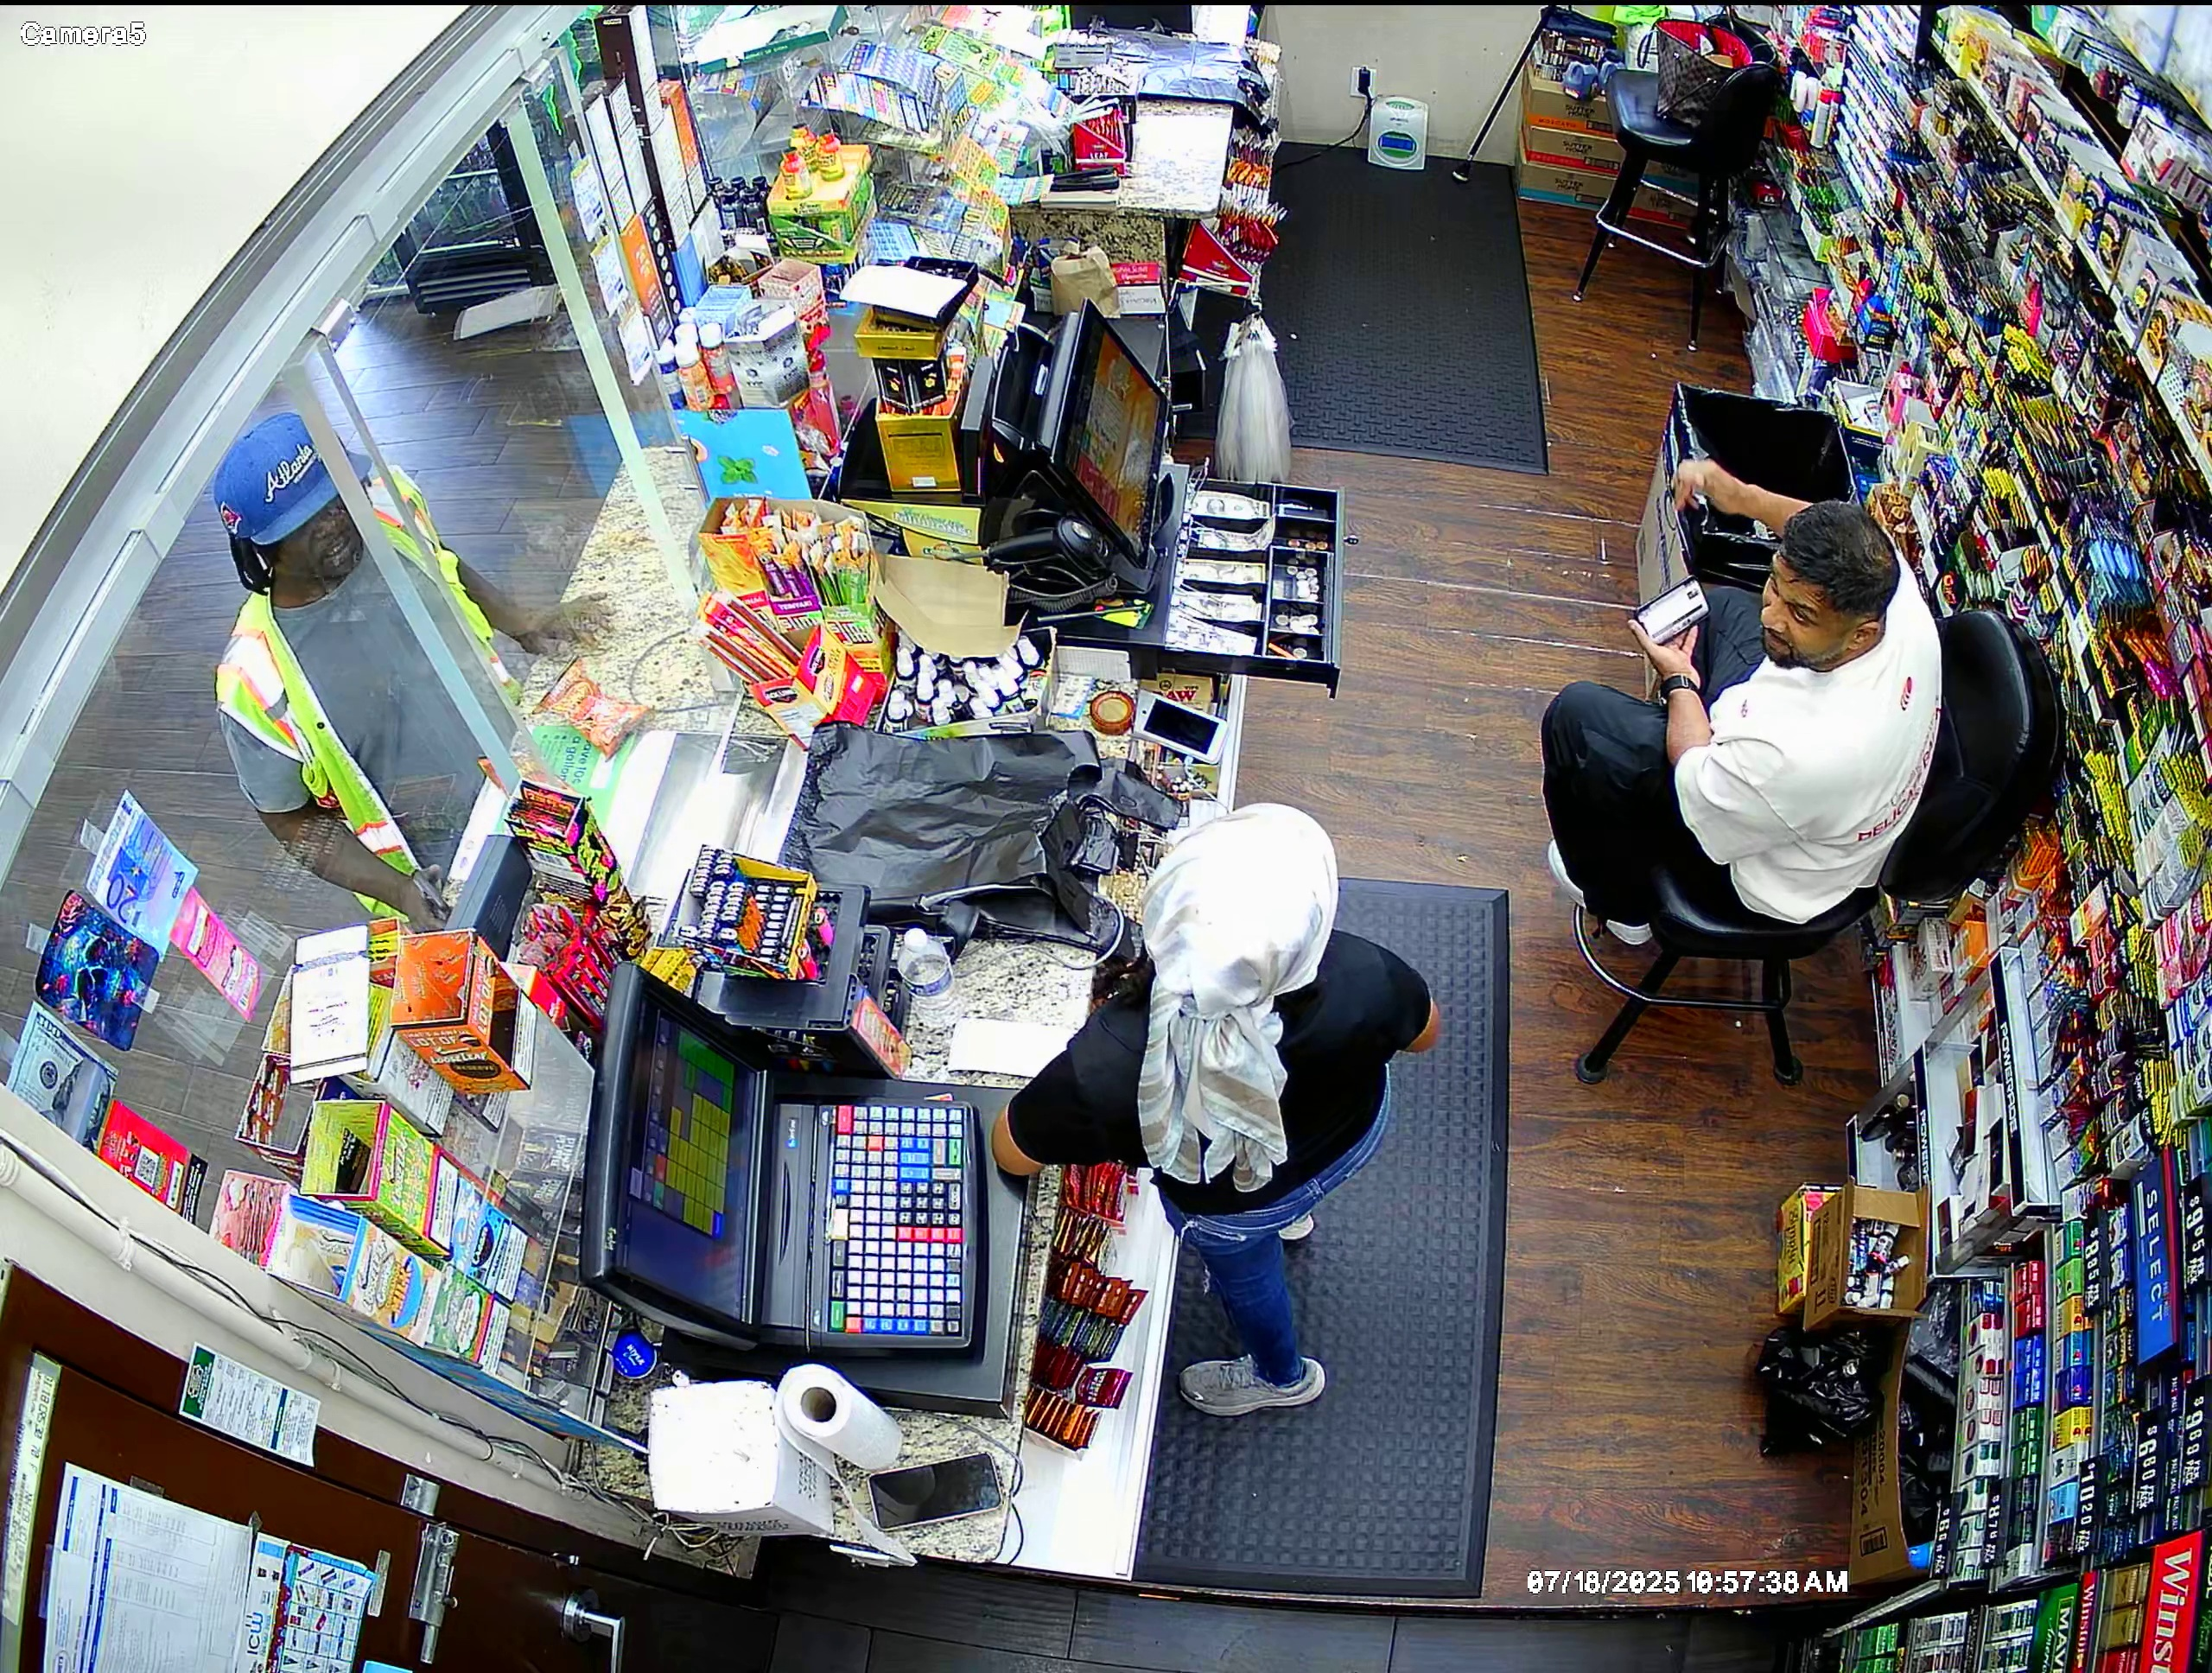phone: (1622, 564, 1718, 661), (409, 873, 457, 931)
